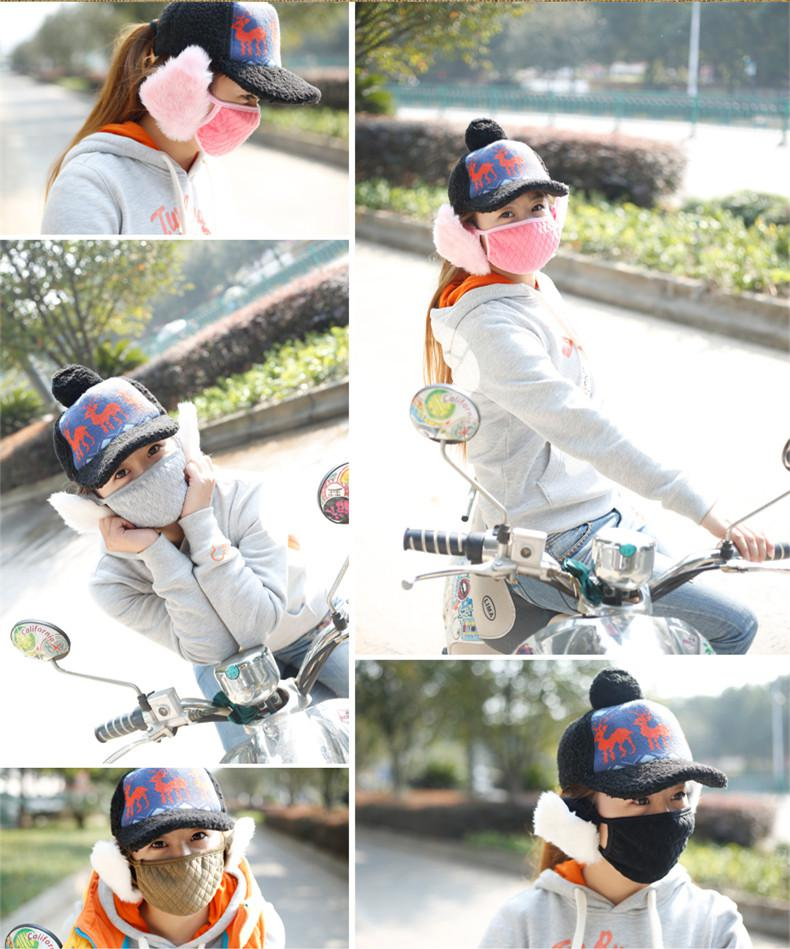OK: (603, 769, 715, 881), (136, 811, 237, 912), (101, 427, 200, 526), (169, 73, 272, 165), (485, 180, 579, 274)
